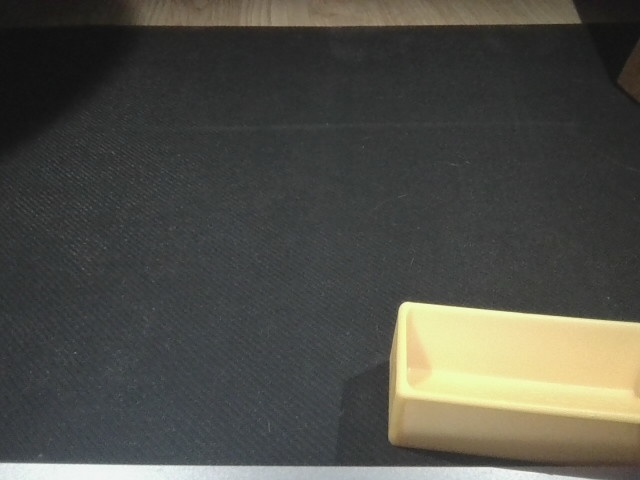YellowSample: (380, 297, 640, 468)
